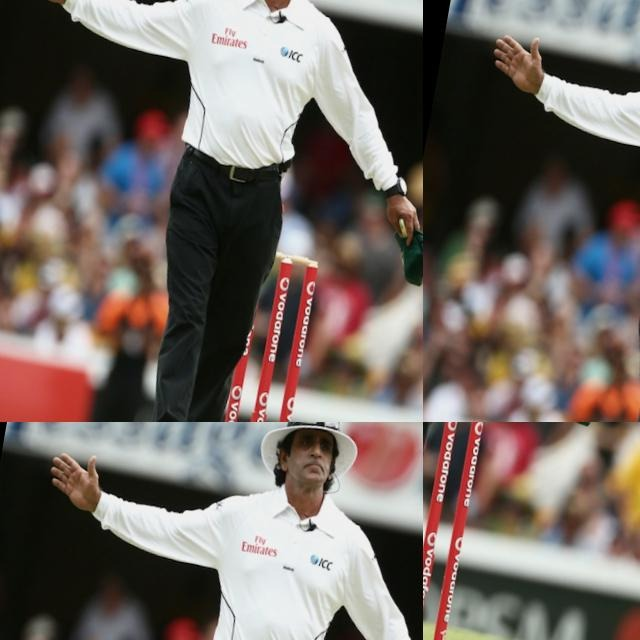No_Action: (496, 33, 640, 291)
No_Ball: (0, 422, 423, 640), (0, 0, 225, 180)
